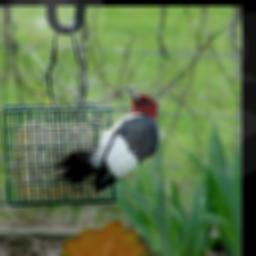Woodpecker: (52, 86, 158, 192)
